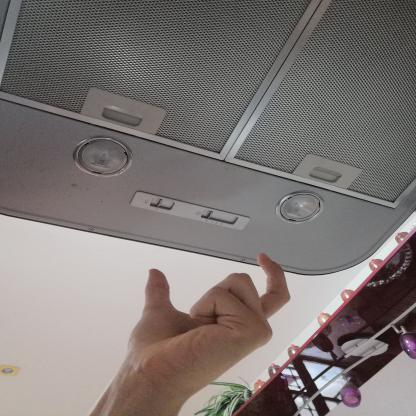NOON: (107, 244, 304, 412)
